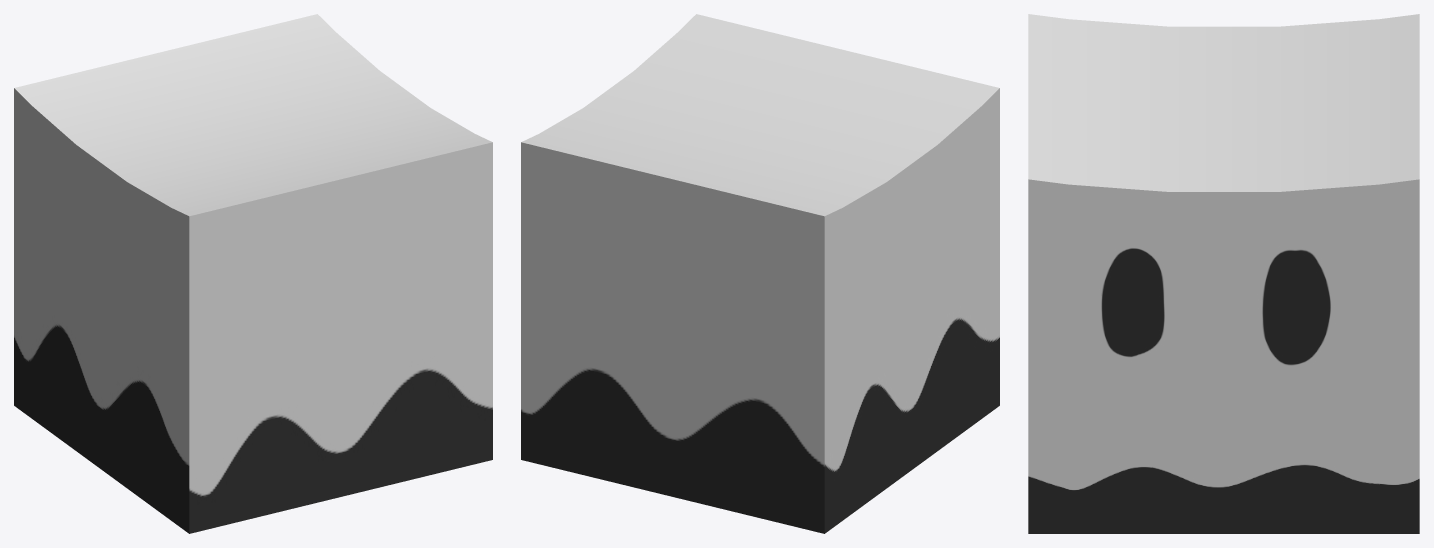
The model's file is ghost.fbx.
3 renders of one model, left to right at view 1: azimuth 30°, elevation 25°; view 2: azimuth 150°, elevation 25°; view 3: azimuth 270°, elevation 25°, orthographic. The views are drawn at different scales.
Parts seen in each view (by area): view 1: Cube; view 2: Cube; view 3: Cube.
Boxes of the visible parts, x1,y1,x2,y2 form: Cube: (14,14,492,533); Cube: (521,14,999,533); Cube: (1028,14,1419,533).
Size of the model in its own units: 200 by 200 by 200.
Materials: 1 (1 with a texture image).
